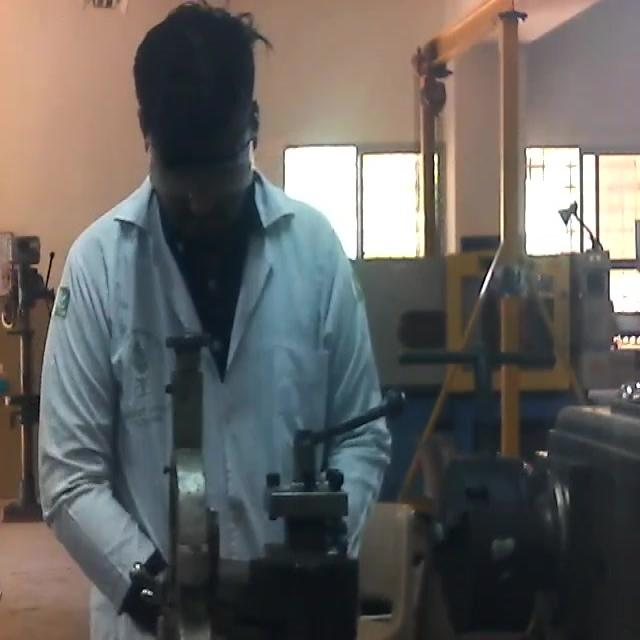googles: (146, 145, 256, 205)
labcoat: (39, 168, 392, 640)
